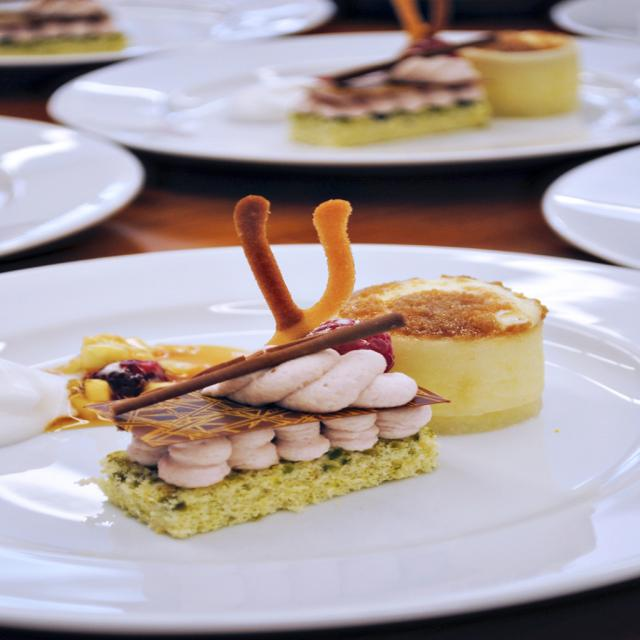non-organic waste: (12, 214, 640, 640)
